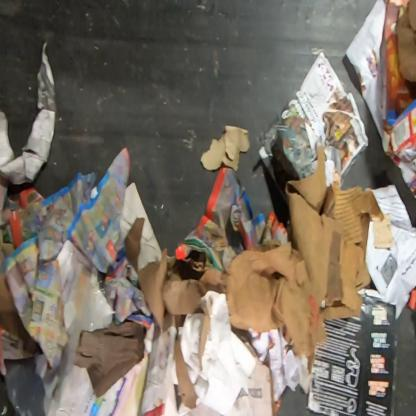cardboard: (124, 143, 394, 410), (306, 286, 400, 416), (72, 319, 146, 400), (0, 273, 44, 356), (395, 0, 415, 85)
soft_plastic: (2, 237, 118, 416), (385, 97, 415, 164)
